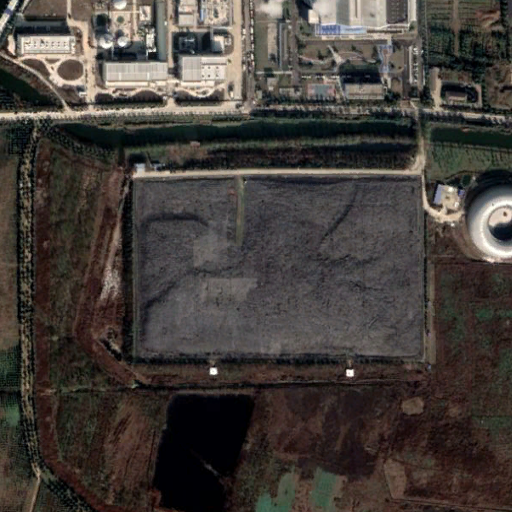lf: (130, 173, 429, 364)
